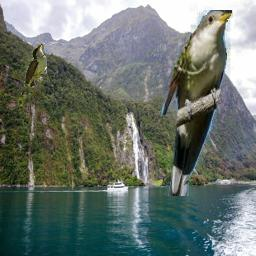Cuckoo: (161, 10, 233, 196), (18, 44, 47, 106)
